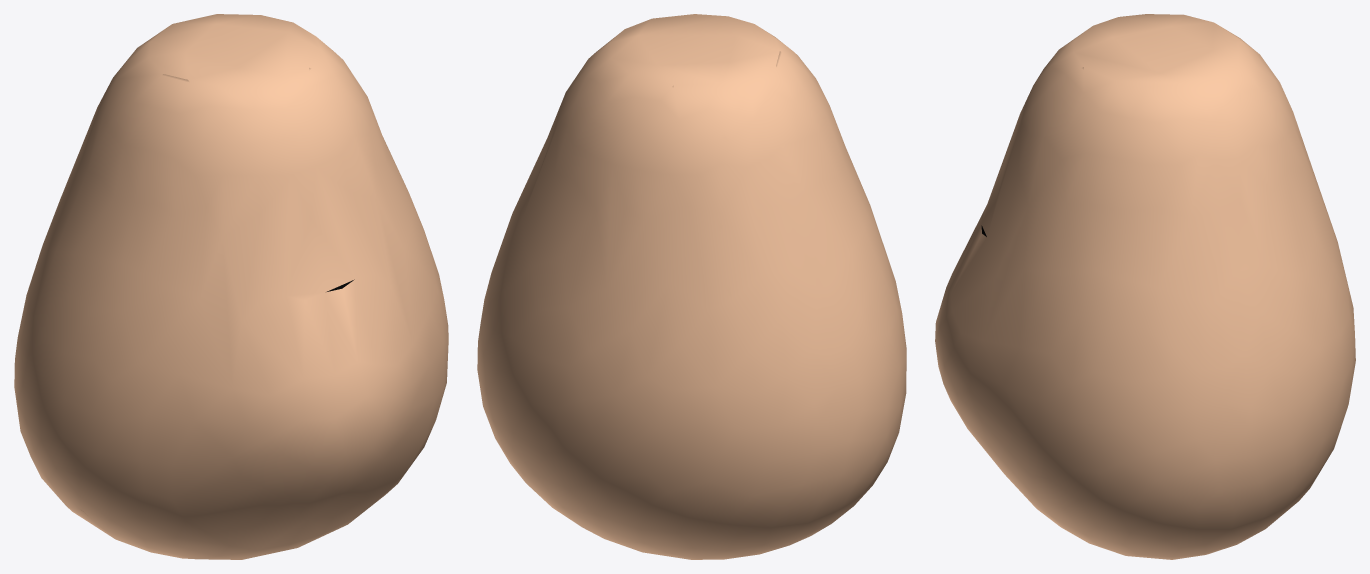
The model's file is char_hand_mitten.glb.
3 views of the same model, side by side, from view 1: azimuth 30°, elevation 25°; view 2: azimuth 150°, elevation 25°; view 3: azimuth 270°, elevation 25° (orthographic).
Parts seen in each view (by area): view 1: char_hand_mitten; view 2: char_hand_mitten; view 3: char_hand_mitten.
Boxes of the visible parts, <box> form: char_hand_mitten: <box>14,14,448,559</box>; char_hand_mitten: <box>477,14,906,559</box>; char_hand_mitten: <box>935,14,1355,559</box>.
Bounding box in the file's own units: 0.1572 × 0.1915 × 0.1498.
1 material, 1 textured.
